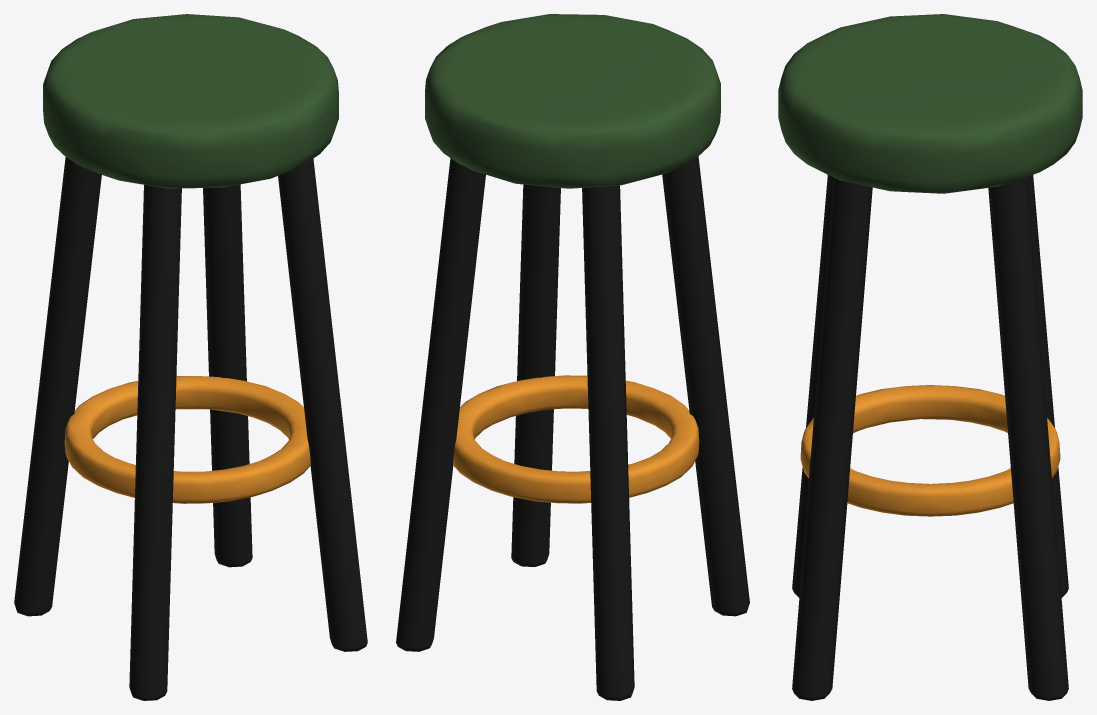
The model's file is barstool_04_green.fbx.
The picture shows the model from 3 angles, left to right: view 1: azimuth 30°, elevation 25°; view 2: azimuth 150°, elevation 25°; view 3: azimuth 270°, elevation 25°; orthographic projection. The views are drawn at different scales.
Visible parts, largest first — view 1: barstool_04_green; view 2: barstool_04_green; view 3: barstool_04_green.
Boxes of the visible parts, x1,y1,x2,y2 form: barstool_04_green: (14,14,367,700); barstool_04_green: (396,14,749,700); barstool_04_green: (778,14,1082,700).
Size of the model in its own units: 43.49 by 90.36 by 43.49.
Materials: 2 (2 with a texture image).
